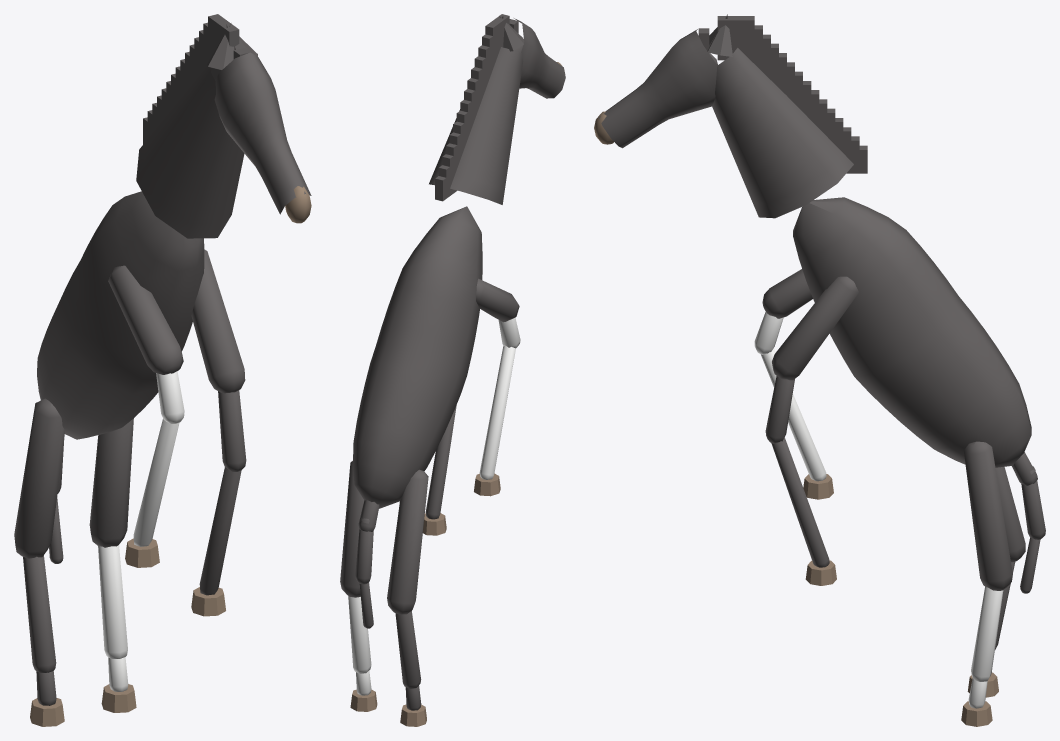
The model's file is riding-horse-rearing-black.glb.
3 views of the same model, side by side, from view 1: azimuth 30°, elevation 25°; view 2: azimuth 150°, elevation 25°; view 3: azimuth 270°, elevation 25° (orthographic). The views are drawn at different scales.
Parts seen in each view (by area): view 1: horse-rearing-black; view 2: horse-rearing-black; view 3: horse-rearing-black.
Part boxes in pixels (x1,y1,x2,y2): horse-rearing-black: [14, 14, 311, 726]; horse-rearing-black: [340, 14, 565, 726]; horse-rearing-black: [594, 14, 1045, 726].
Size of the model in its own units: 0.4689 by 3.5 by 2.07.
